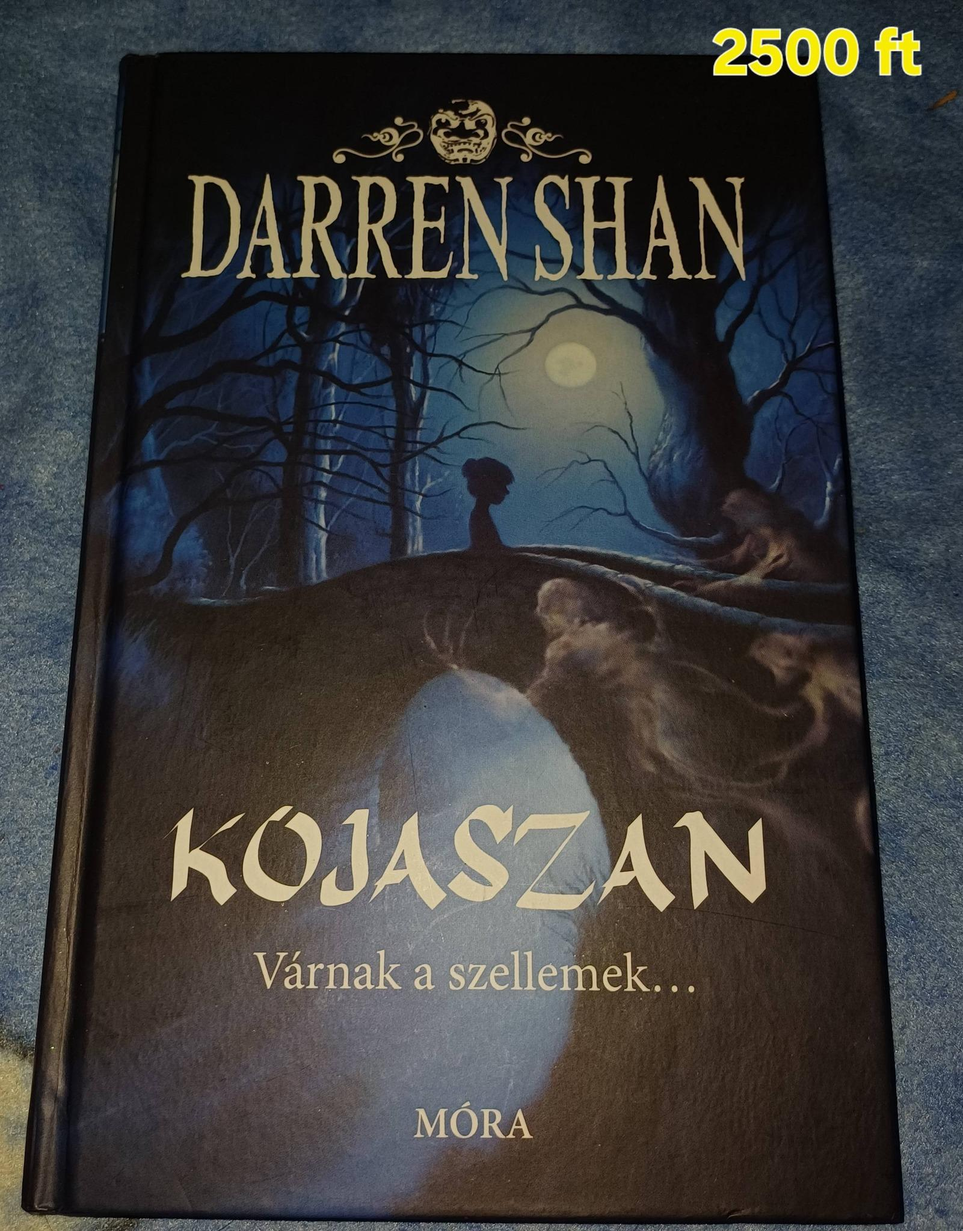comic: (25, 51, 913, 1223)
